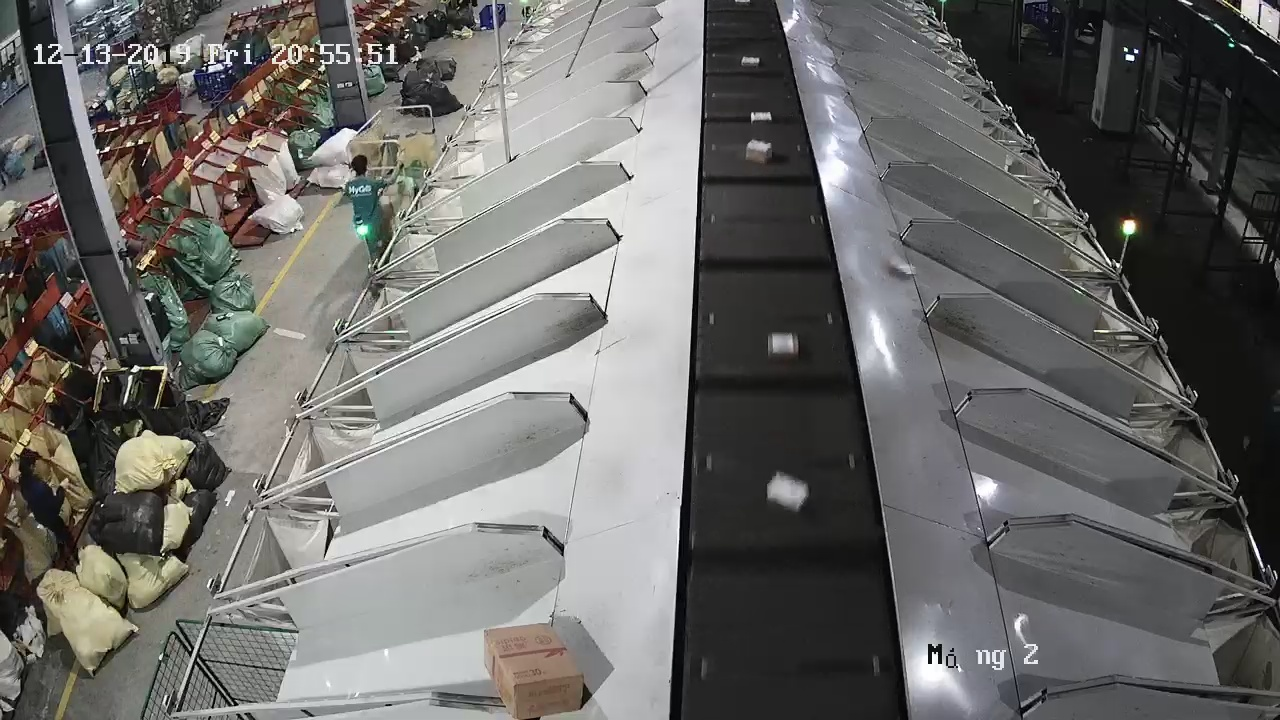parcel: (889, 259, 918, 279)
